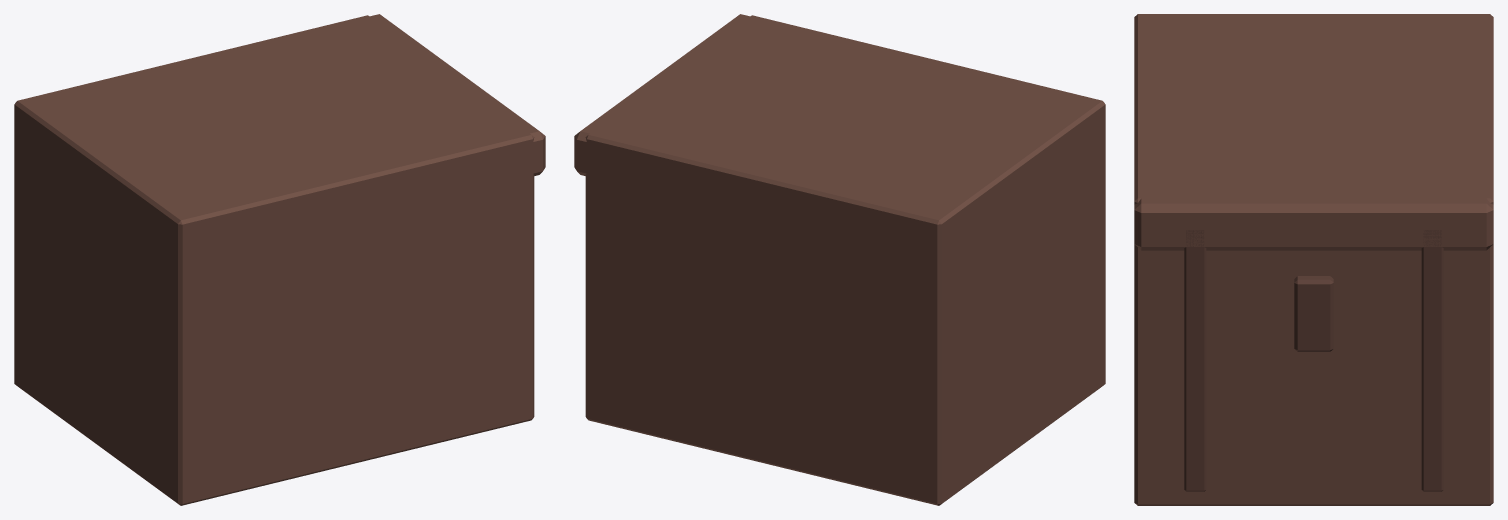
Rendered from coffre_couloir.glb.
3 views of the same model, side by side, from view 1: azimuth 30°, elevation 25°; view 2: azimuth 150°, elevation 25°; view 3: azimuth 270°, elevation 25° (orthographic). The views are drawn at different scales.
Visible parts, largest first — view 1: coffre_couloir; view 2: coffre_couloir; view 3: coffre_couloir.
Boxes of the visible parts, x1=… form: coffre_couloir: x1=14, y1=14, x2=545, y2=505; coffre_couloir: x1=574, y1=14, x2=1105, y2=505; coffre_couloir: x1=1134, y1=14, x2=1493, y2=505.
Size of the model in its own units: 1.15 by 0.85 by 0.9.
Materials: 1 (1 with a texture image).
